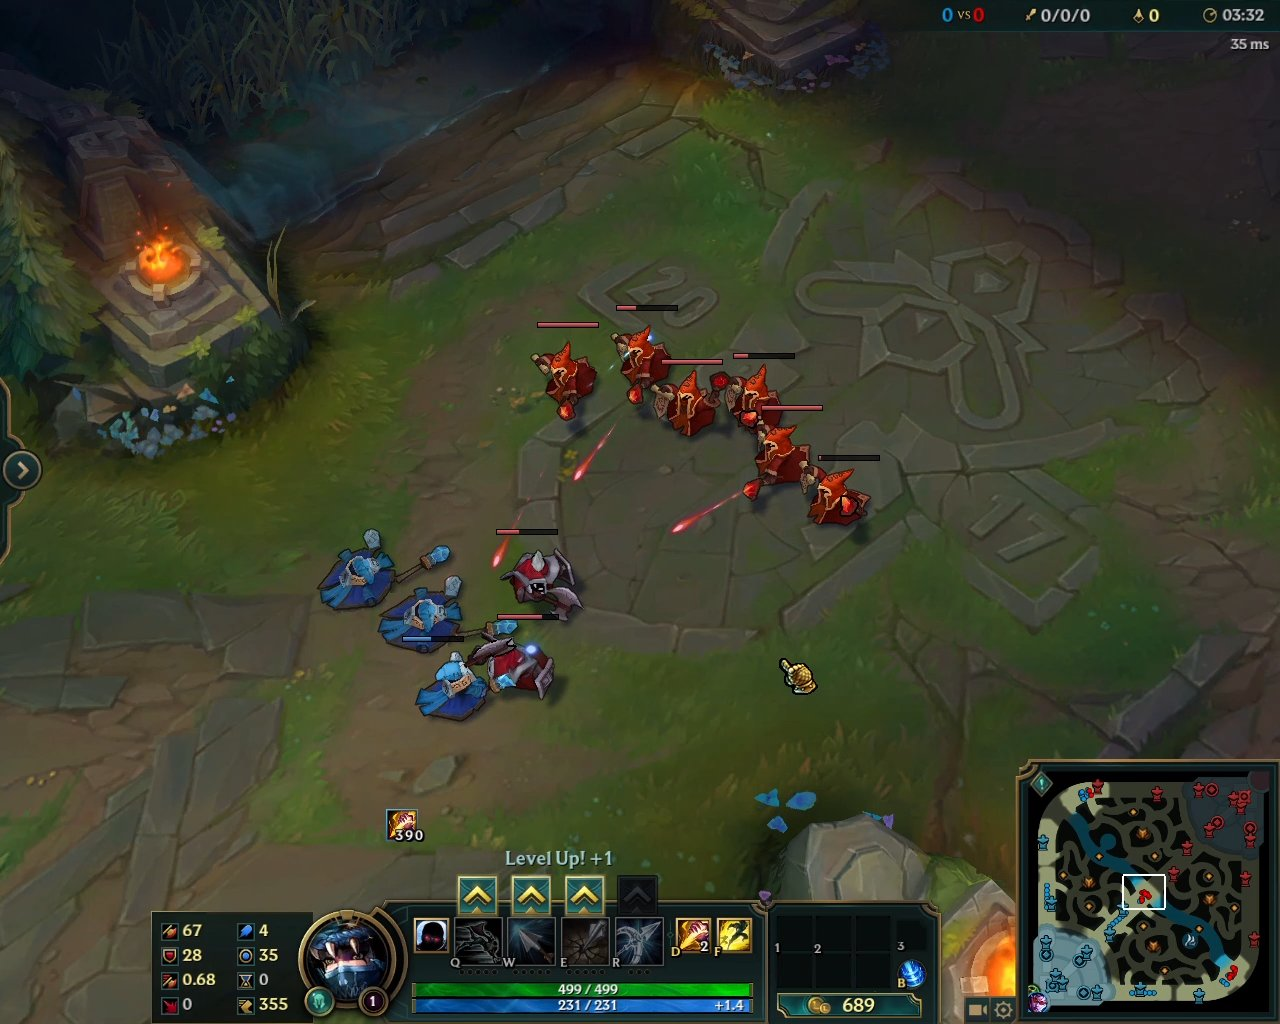EnemyMinion: (735, 406, 822, 503), (494, 526, 577, 624), (530, 320, 601, 425), (484, 613, 561, 706), (609, 302, 675, 402), (652, 355, 724, 440), (798, 455, 880, 528), (724, 349, 794, 429)
